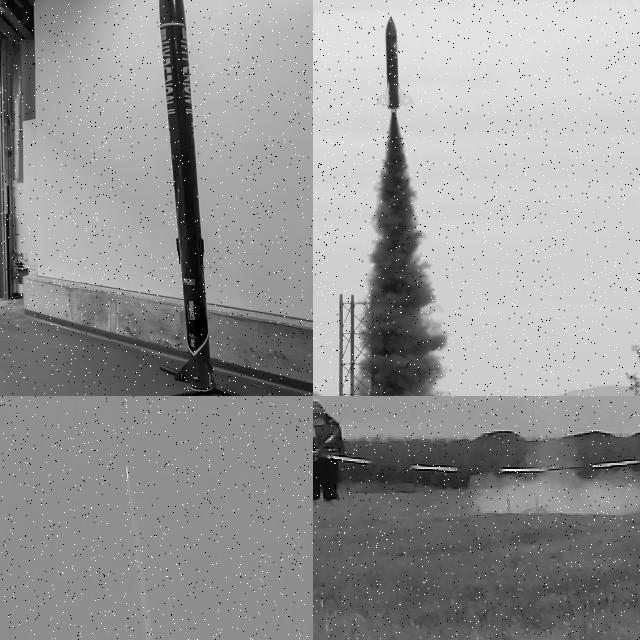Rocket: (159, 0, 217, 392), (376, 16, 416, 113), (125, 466, 128, 480)
